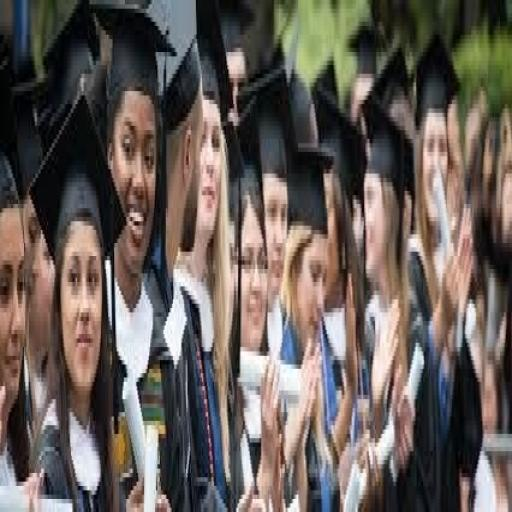clapping: (0, 0, 511, 508)
